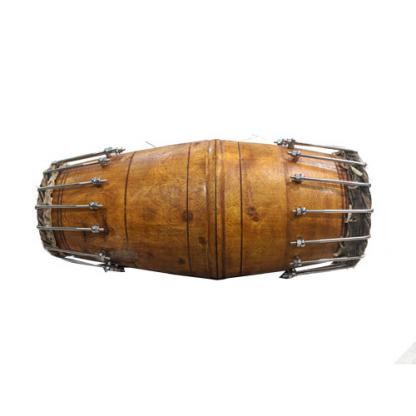Mridangam: (31, 129, 383, 291)
